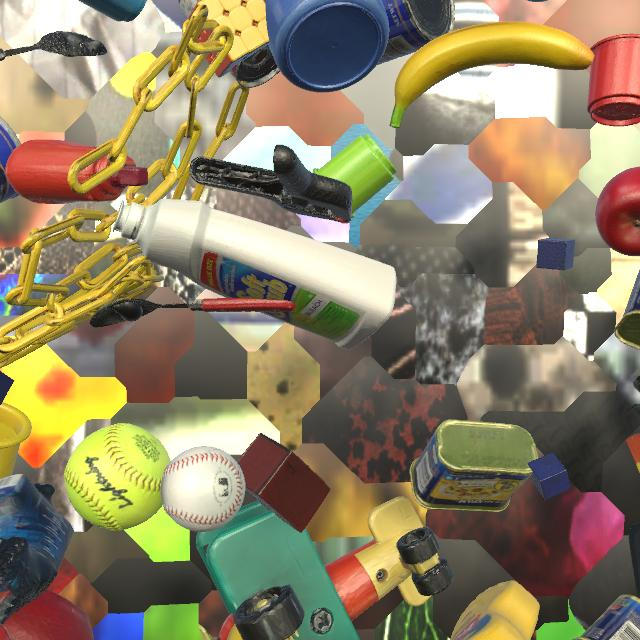ycb_002_master_chef_can: (377, 0, 455, 65), (0, 117, 21, 203)
ycb_005_tomato_soup_can: (178, 0, 280, 88)
ycb_006_mustard_bottle: (450, 580, 540, 640)
ycb_010_potted_meat_can: (410, 419, 538, 512), (572, 594, 640, 640), (614, 269, 640, 350)
ycb_011_banana: (389, 21, 594, 128), (227, 624, 242, 640)
ycb_013_apple: (595, 166, 640, 257)
